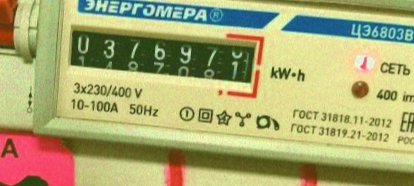0: (74, 31, 92, 53)
1: (228, 58, 241, 80)
3: (101, 35, 117, 60)
6: (153, 38, 168, 60)
7: (127, 35, 142, 60), (203, 43, 218, 67)
9: (178, 41, 192, 64)
screen: (59, 16, 267, 101)
